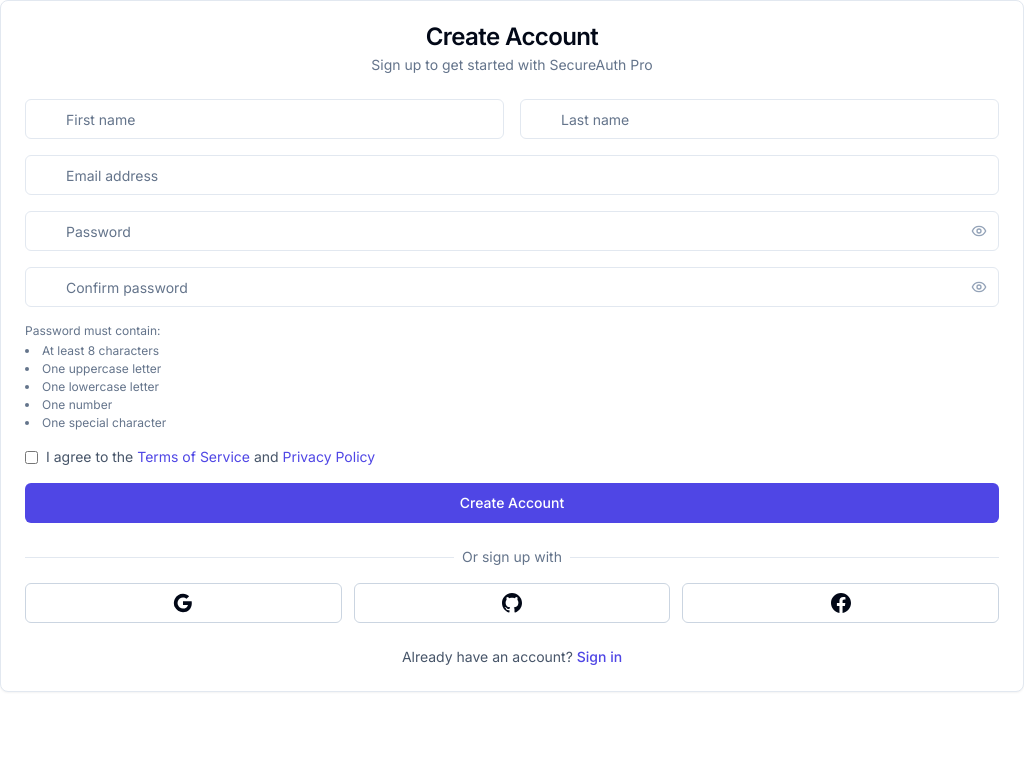
Test case: RegisterPage › form submission › displays generic error when no specific message
The width and height of the screenshot is (1024, 768).
Type "John" into the field with placeholder "First name" at coordinates (264, 119), box [25,99,504,139]
Type "Doe" into the field with placeholder "Last name" at coordinates (760, 119), box [520,99,999,139]
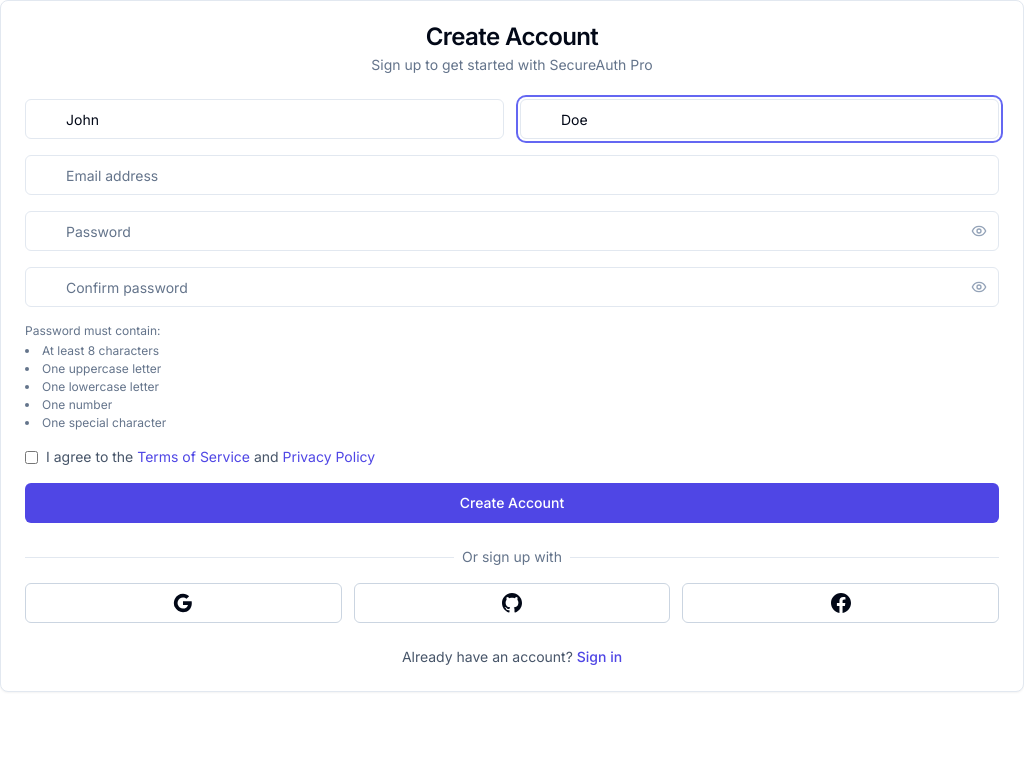
Type "john@example.com" into the field with placeholder "Email address" at coordinates (512, 175), box [25,155,999,195]
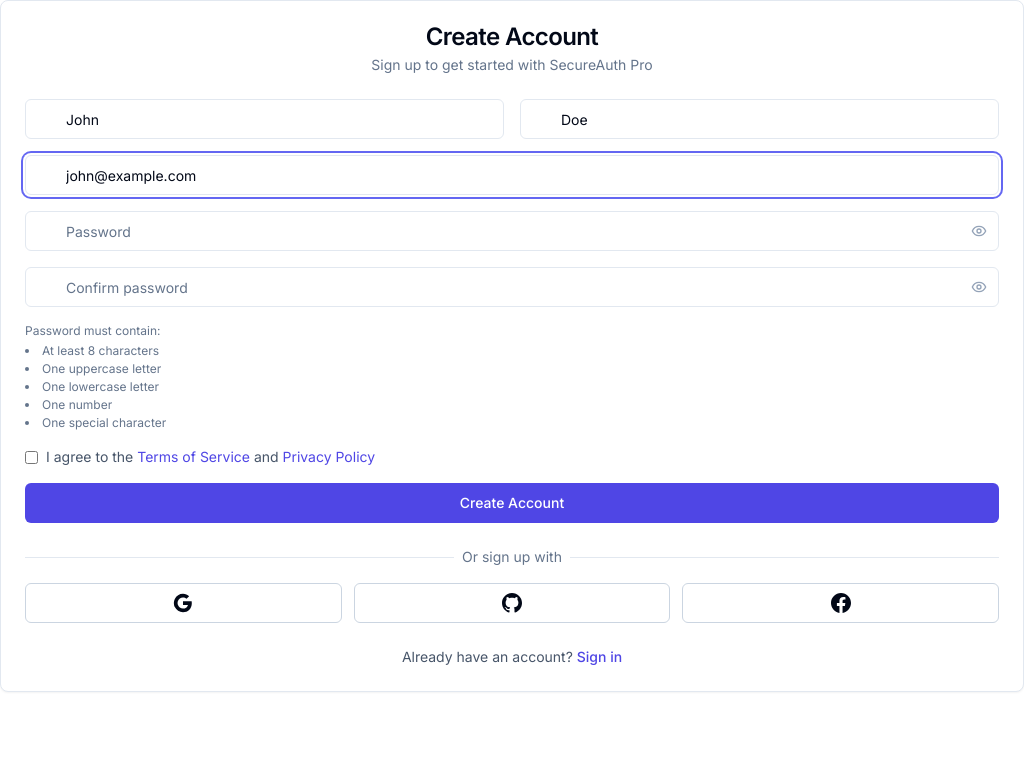
Type "Password123!" into the password field with placeholder "Password" at coordinates (512, 231), box [25,211,999,251]
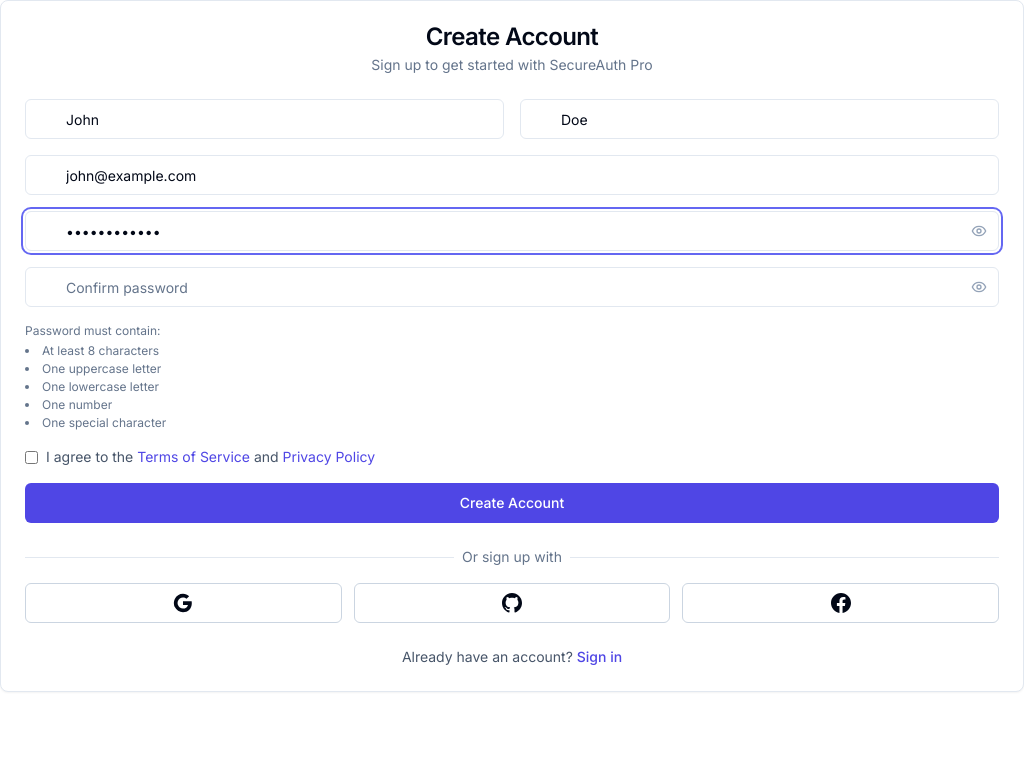
Type "Password123!" into the password field with placeholder "Confirm password" at coordinates (512, 287), box [25,267,999,307]
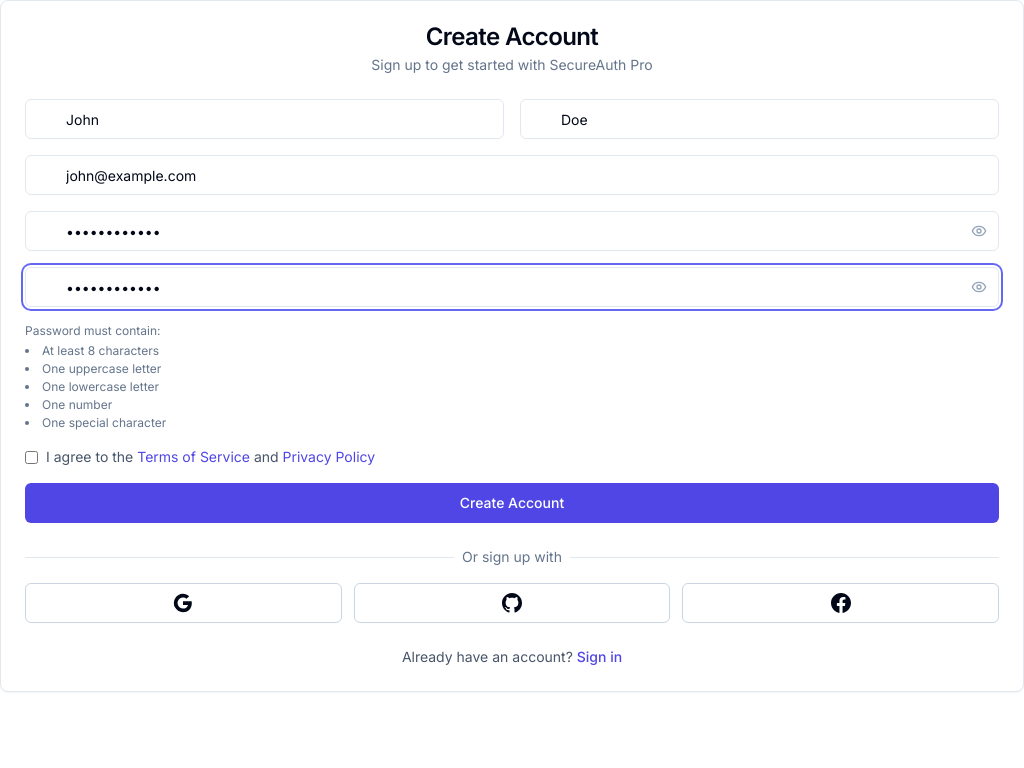
Click the checkbox labelled "I agree to the Terms of Service and Privacy Policy" at coordinates (32, 458), box [25,451,38,464]
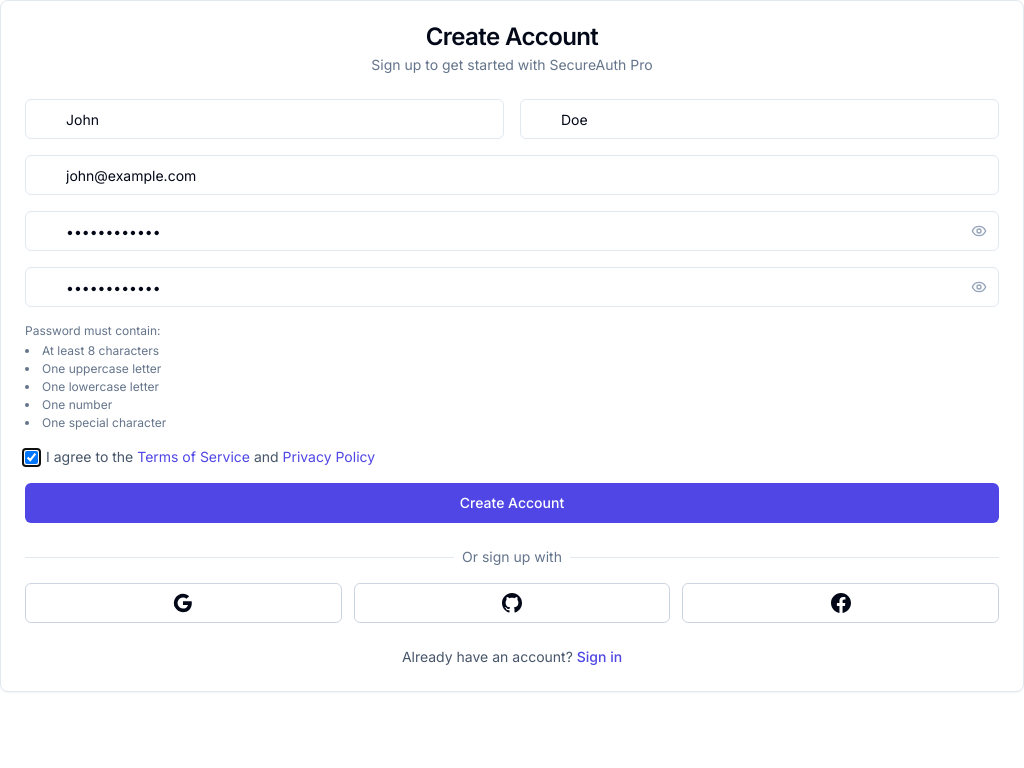
Click the button "Create Account" at coordinates (512, 503), box [25,483,999,523]
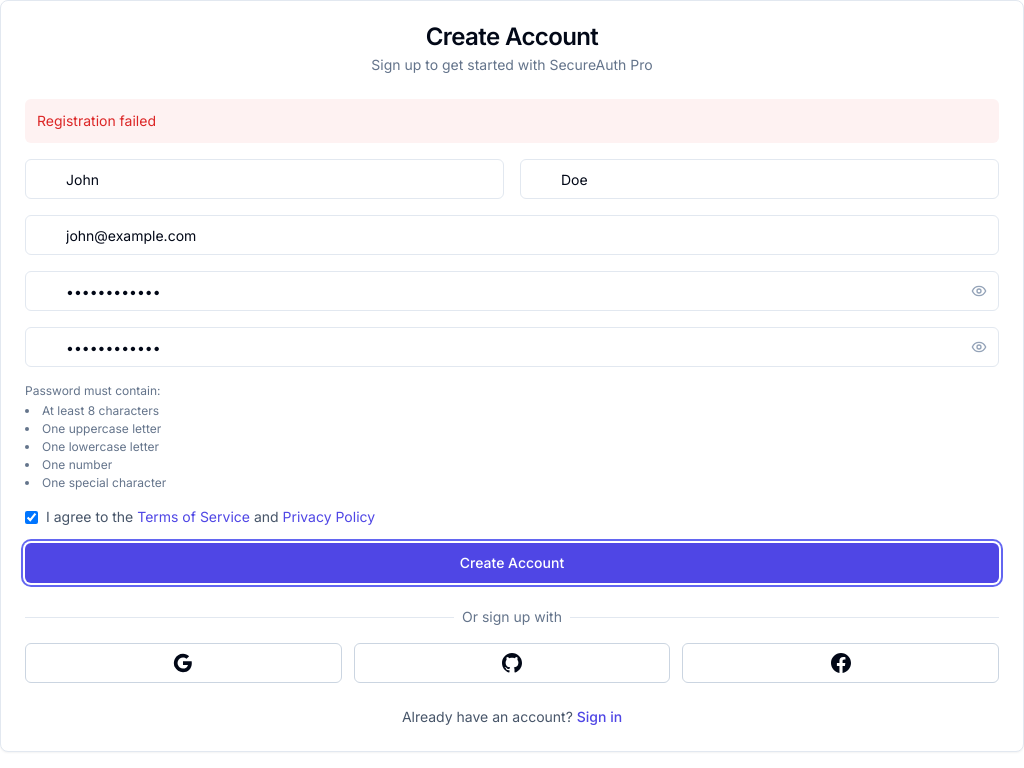
Expected: the text "Registration failed" is shown, [25,99,999,143]
